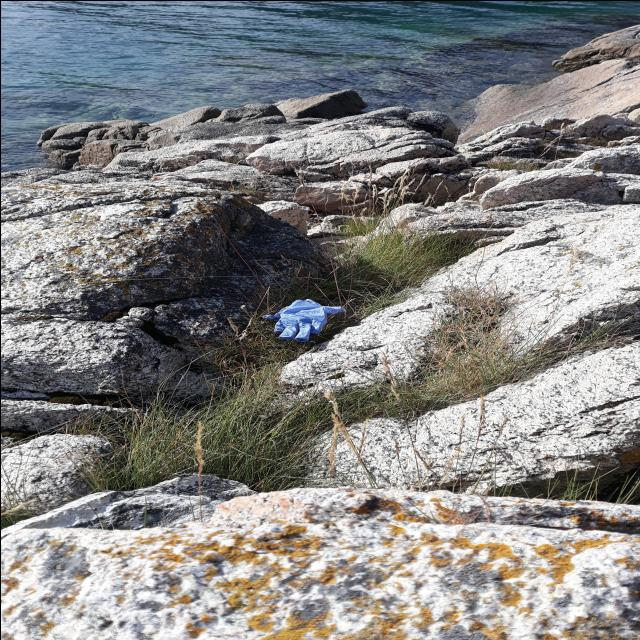Plastic glooves: (262, 298, 345, 341)
